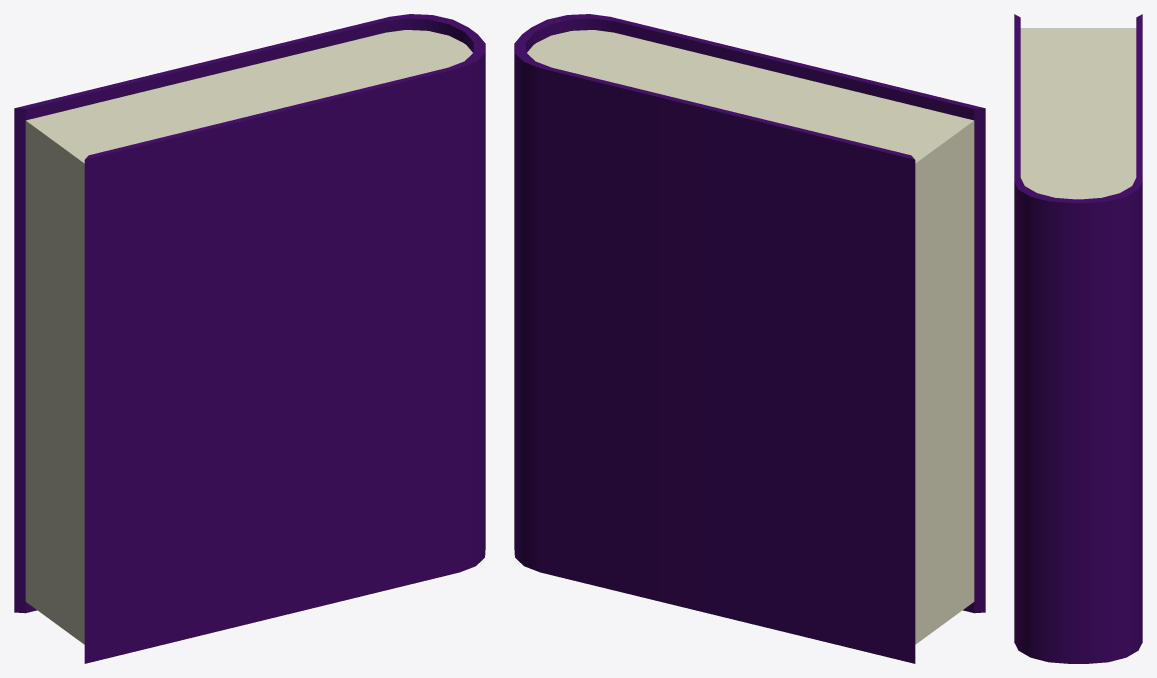
The model's file is books_shelve_05.glb.
The picture shows the model from 3 angles, left to right: view 1: azimuth 30°, elevation 25°; view 2: azimuth 150°, elevation 25°; view 3: azimuth 270°, elevation 25°; orthographic projection. The views are drawn at different scales.
Visible parts, largest first — view 1: Cube.128; view 2: Cube.128; view 3: Cube.128.
Part boxes in pixels (<box>): Cube.128: <box>14,14,485,663</box>; Cube.128: <box>514,14,985,663</box>; Cube.128: <box>1014,14,1142,663</box>.
Bounding box in the file's own units: 0.1327 × 0.151 × 0.0381.
